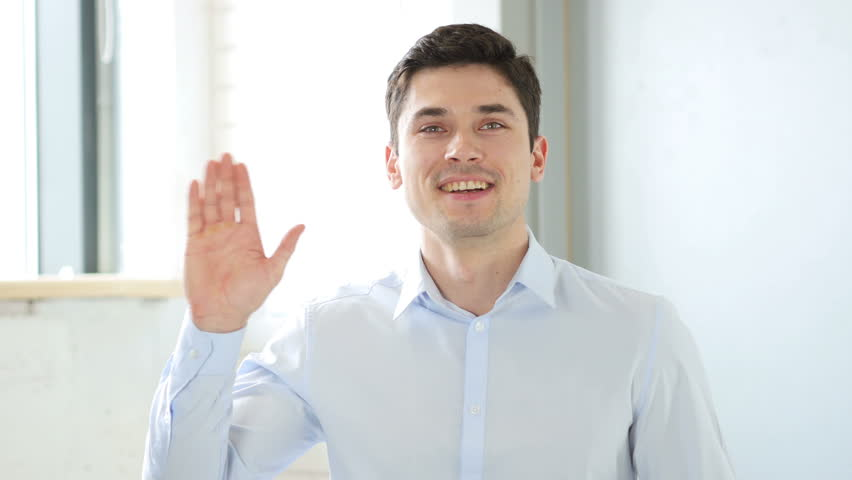open_hand: (152, 139, 321, 332)
